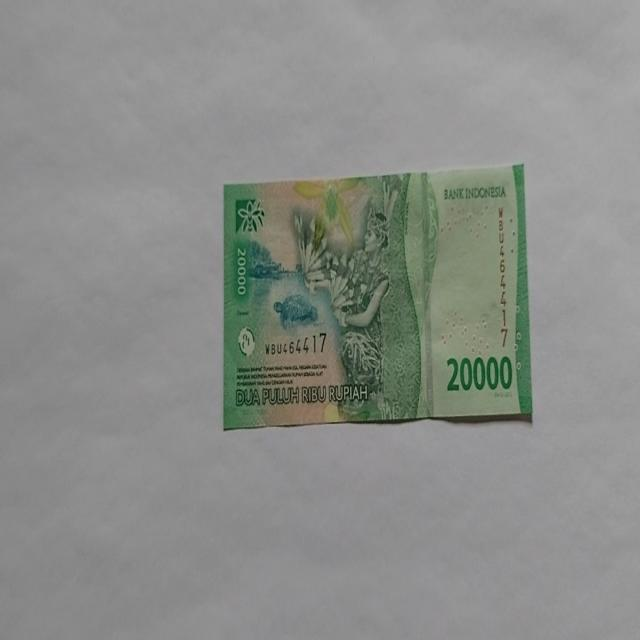dua puluh ribu rupiah: (222, 162, 532, 430), (292, 174, 424, 422)
